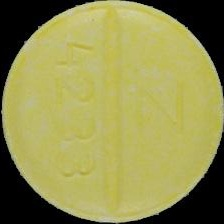60760-446: (0, 0, 224, 224)
